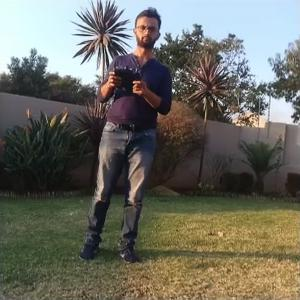follow: (72, 1, 174, 267)
